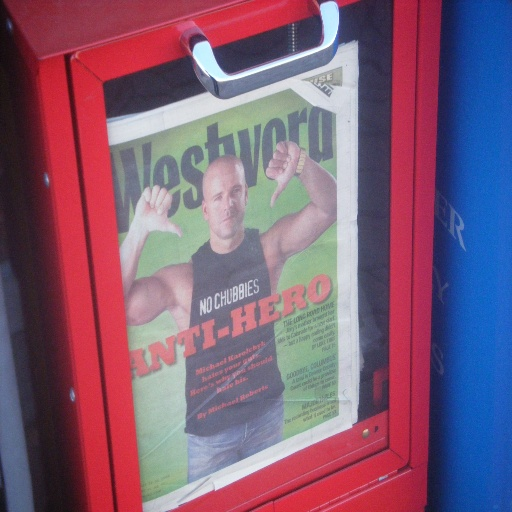hand: (266, 131, 308, 201), (134, 186, 182, 239)
